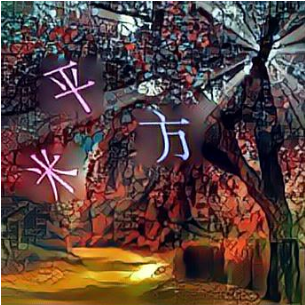hanzi: (19, 135, 86, 205), (135, 102, 201, 167), (41, 52, 104, 114)
